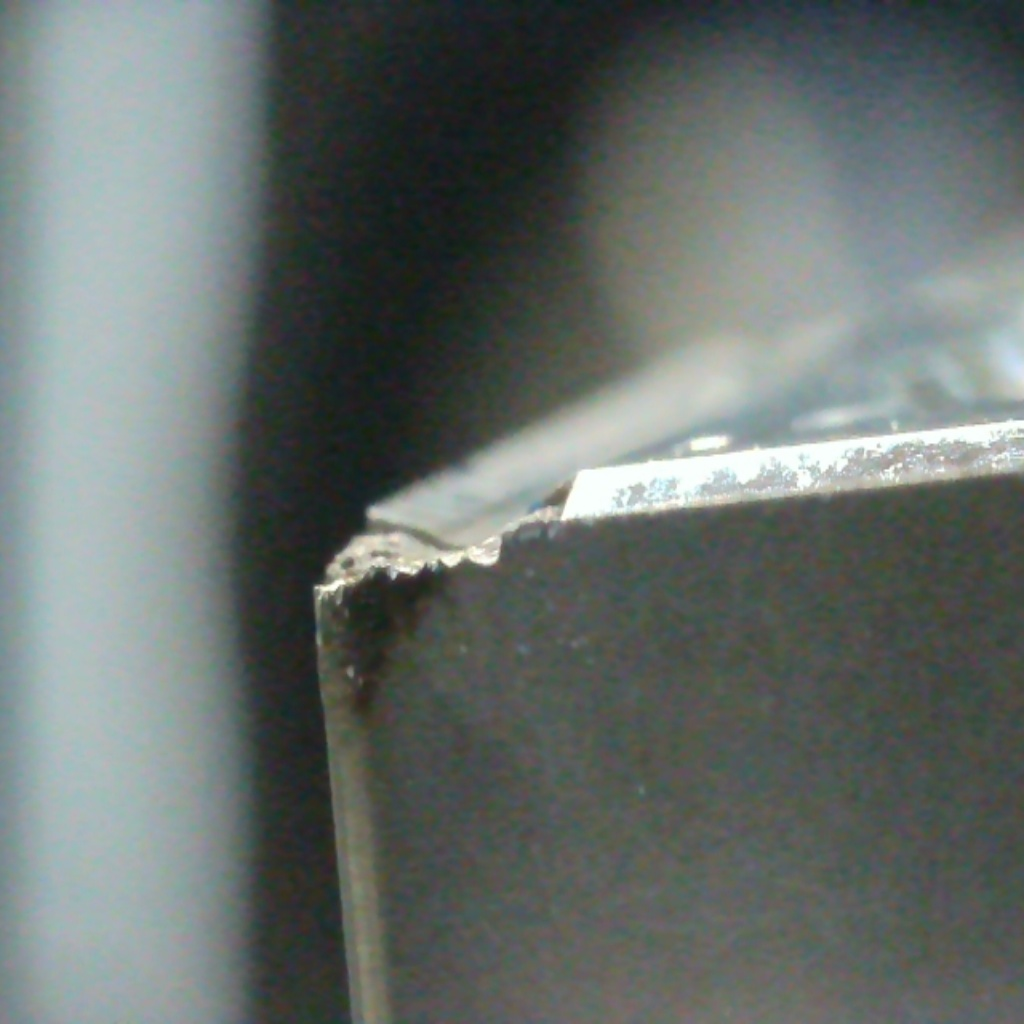flank_wear: (314, 551, 506, 601)
